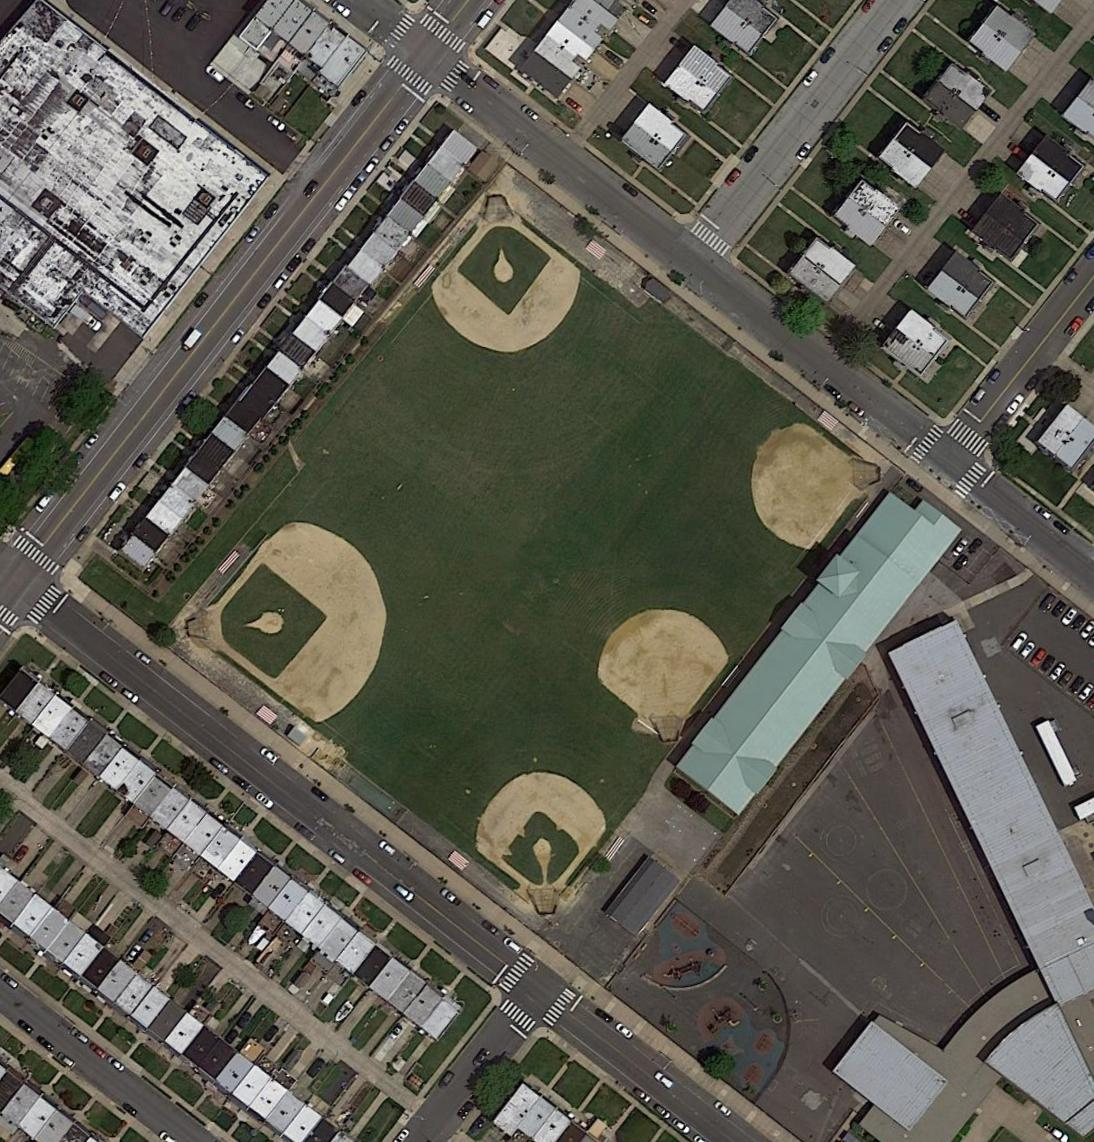ship: (332, 999, 356, 1026), (244, 924, 268, 950)
